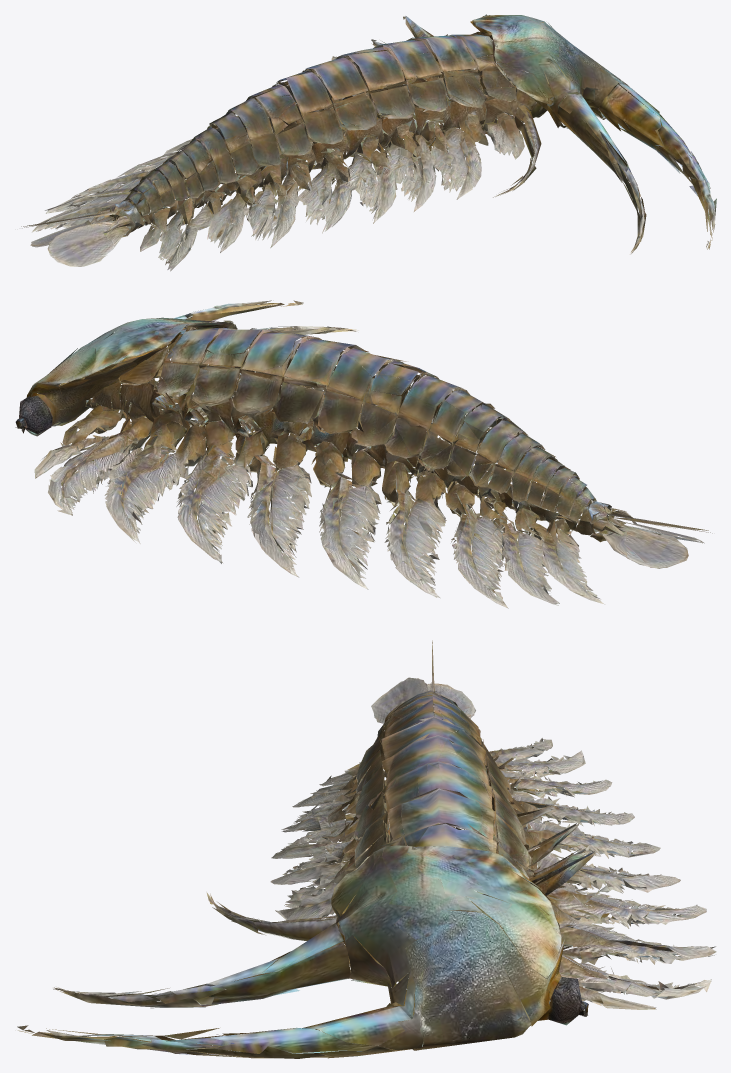
Rendered from marrella.glb.
3 renders of one model, top to bottom at view 1: azimuth 30°, elevation 25°; view 2: azimuth 150°, elevation 25°; view 3: azimuth 270°, elevation 25°, orthographic. The views are drawn at different scales.
Visible parts, largest first — view 1: Mesh_0; view 2: Mesh_0; view 3: Mesh_0.
Part boxes in pixels (box(x1,y1,x2,y2)): Mesh_0: box(21, 14, 716, 271); Mesh_0: box(15, 300, 712, 608); Mesh_0: box(17, 640, 716, 1058).
Size of the model in its own units: 1 by 0.218 by 0.7507.
1 material, 1 textured.
